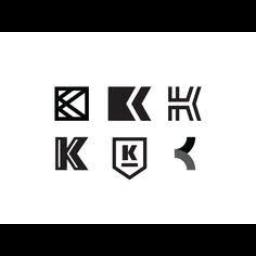k: (54, 133, 90, 175), (120, 143, 138, 163)
